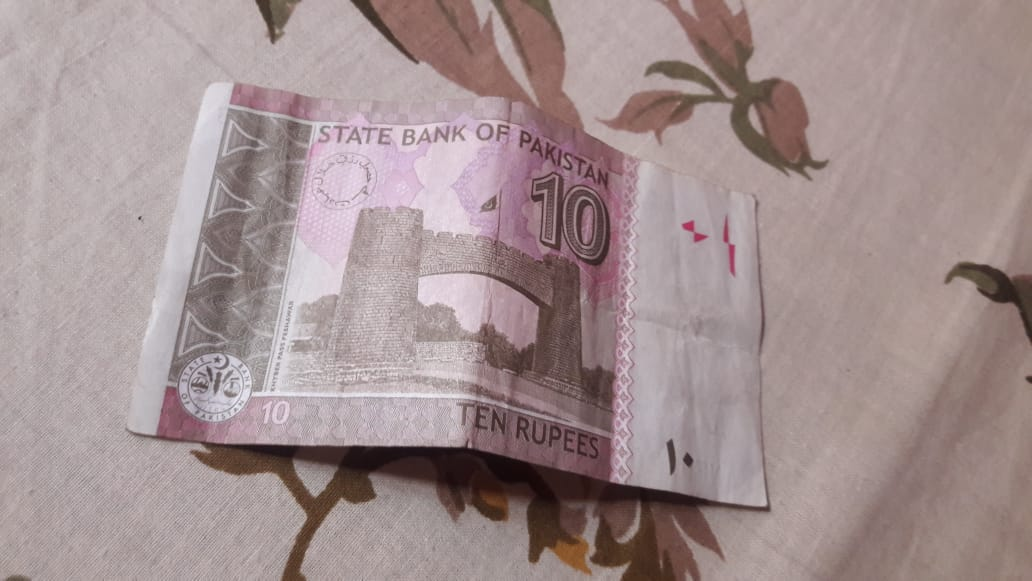10 rupee: (116, 59, 913, 549)
